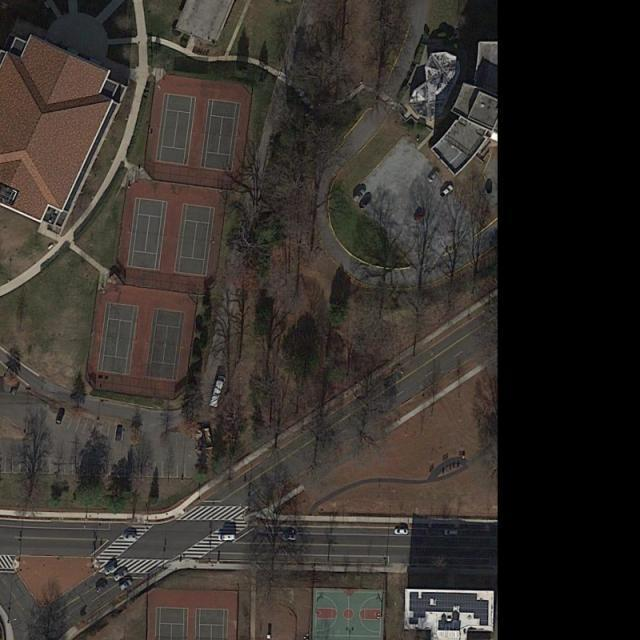vehicle: (209, 375, 226, 406), (426, 170, 442, 184), (352, 188, 366, 204), (103, 563, 118, 576), (55, 408, 66, 425), (114, 569, 128, 582), (119, 579, 134, 591), (361, 193, 373, 207), (96, 580, 108, 594), (441, 185, 454, 197), (116, 424, 123, 445), (282, 533, 297, 542), (9, 382, 18, 397), (394, 528, 410, 536), (486, 179, 494, 194), (218, 535, 235, 542), (124, 533, 138, 541), (445, 529, 458, 536)
